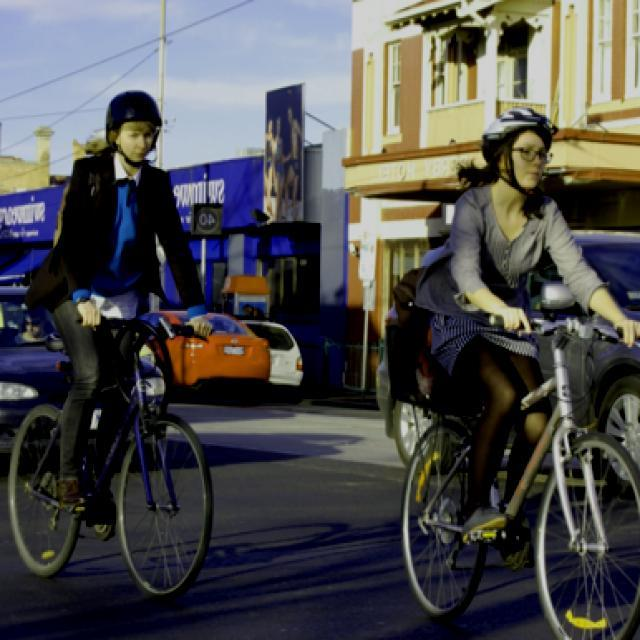Helmet: (474, 106, 560, 196), (96, 77, 173, 173)
